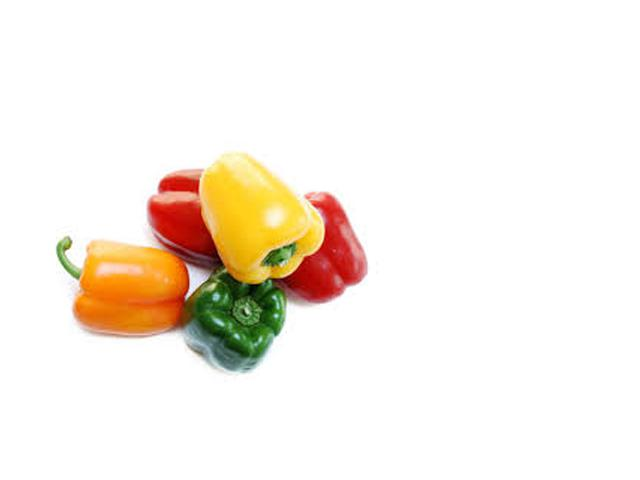bell_pepper: (176, 242, 308, 386)
